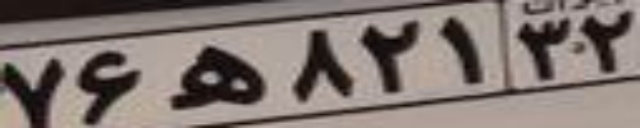1: (438, 16, 487, 84)
2: (357, 19, 426, 92), (578, 11, 633, 74)
3: (515, 18, 571, 80)
6: (77, 49, 142, 124)
7: (0, 55, 68, 127)
8: (290, 28, 354, 102)
he: (162, 43, 267, 110)
